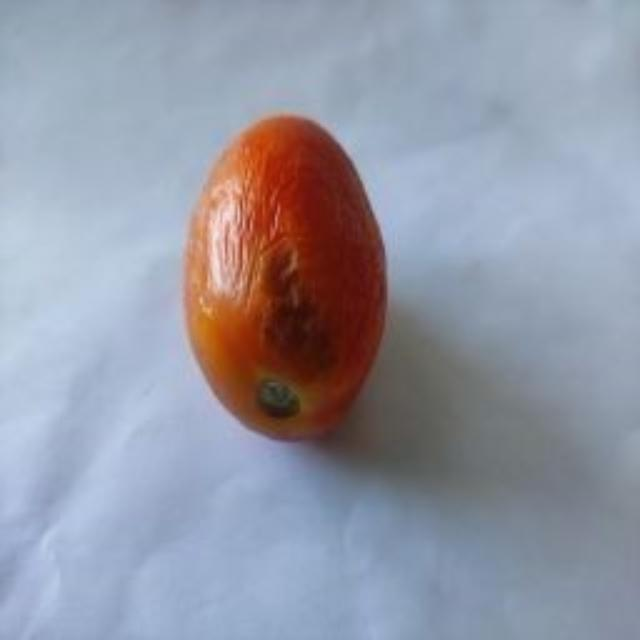defect: (181, 108, 400, 445)
